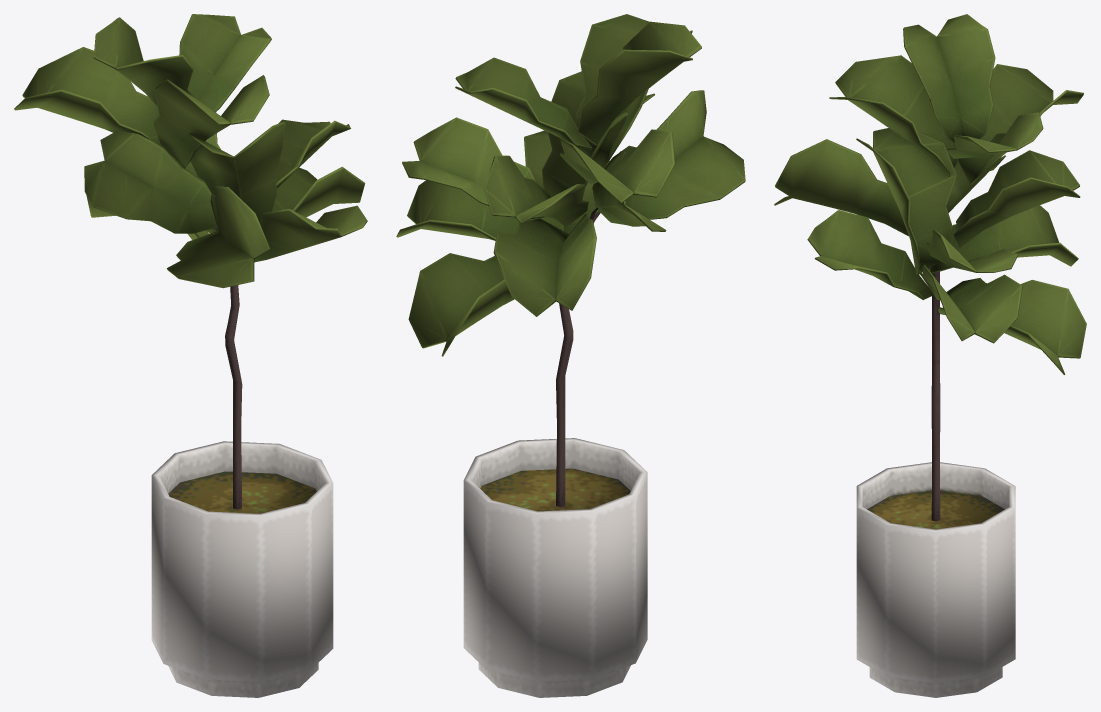
File: Plant-Fig-Fiddleleaf-GB.fbx
The picture shows the model from 3 angles, left to right: view 1: azimuth 30°, elevation 25°; view 2: azimuth 150°, elevation 25°; view 3: azimuth 270°, elevation 25°; orthographic projection. The views are drawn at different scales.
Parts seen in each view (by area): view 1: FiddleleafFigPottedPlant_mesh; view 2: FiddleleafFigPottedPlant_mesh; view 3: FiddleleafFigPottedPlant_mesh.
Part boxes in pixels (x1,y1,x2,y2): FiddleleafFigPottedPlant_mesh: (14, 14, 367, 697); FiddleleafFigPottedPlant_mesh: (396, 14, 745, 697); FiddleleafFigPottedPlant_mesh: (774, 14, 1086, 697).
Bounding box in the file's own units: 430 × 895 × 425.
1 material, 1 textured.
